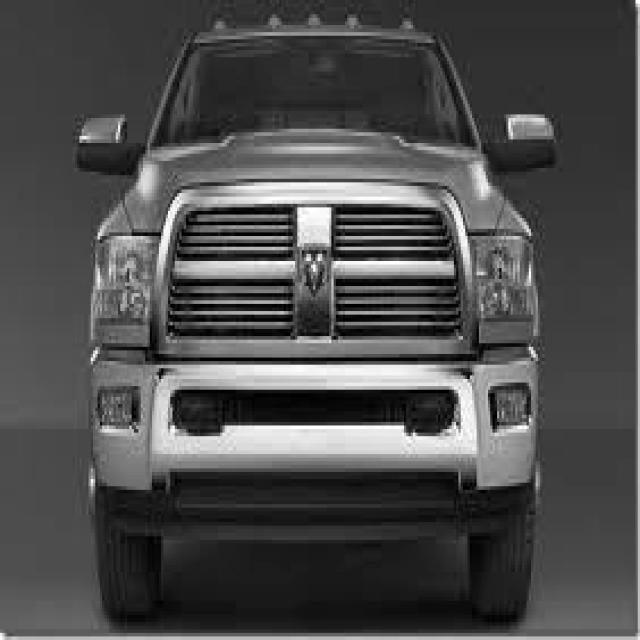car: (73, 0, 556, 622)
